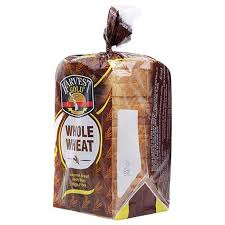bread: (48, 14, 167, 223)
